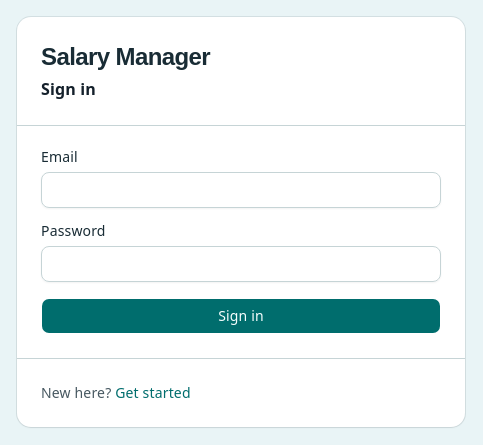
Test case: SignInPage › returns an admin with no entity to onboarding after sign in
The width and height of the screenshot is (483, 445).
In the field labelled "Email": x=241, y=190 top-left (41, 172), bottom-right (441, 208), type "jane@example.com"
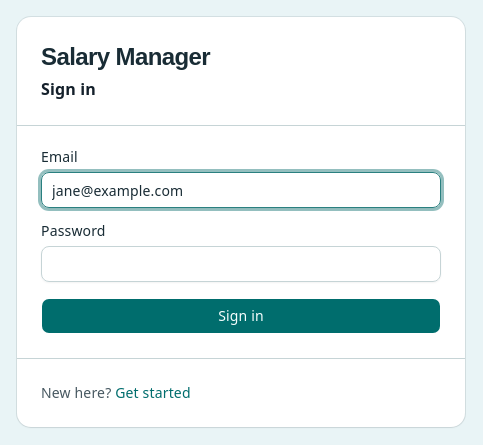
In the password field labelled "Password": x=241, y=264 top-left (41, 246), bottom-right (441, 282), type "password123"
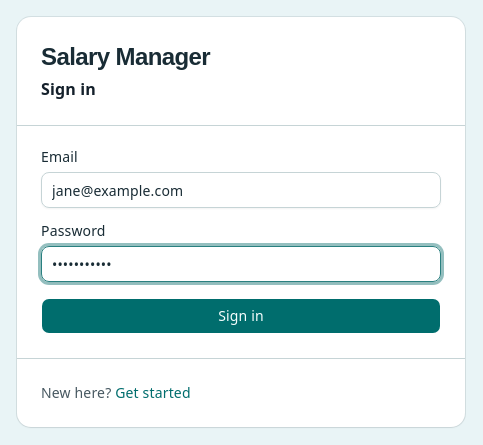
Click the button "Sign in": x=241, y=316 top-left (41, 298), bottom-right (441, 334)
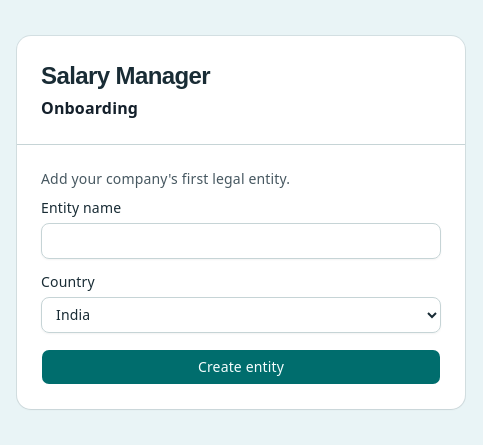
Now the heading "Onboarding" is shown, box top-left (41, 96), bottom-right (138, 118)
